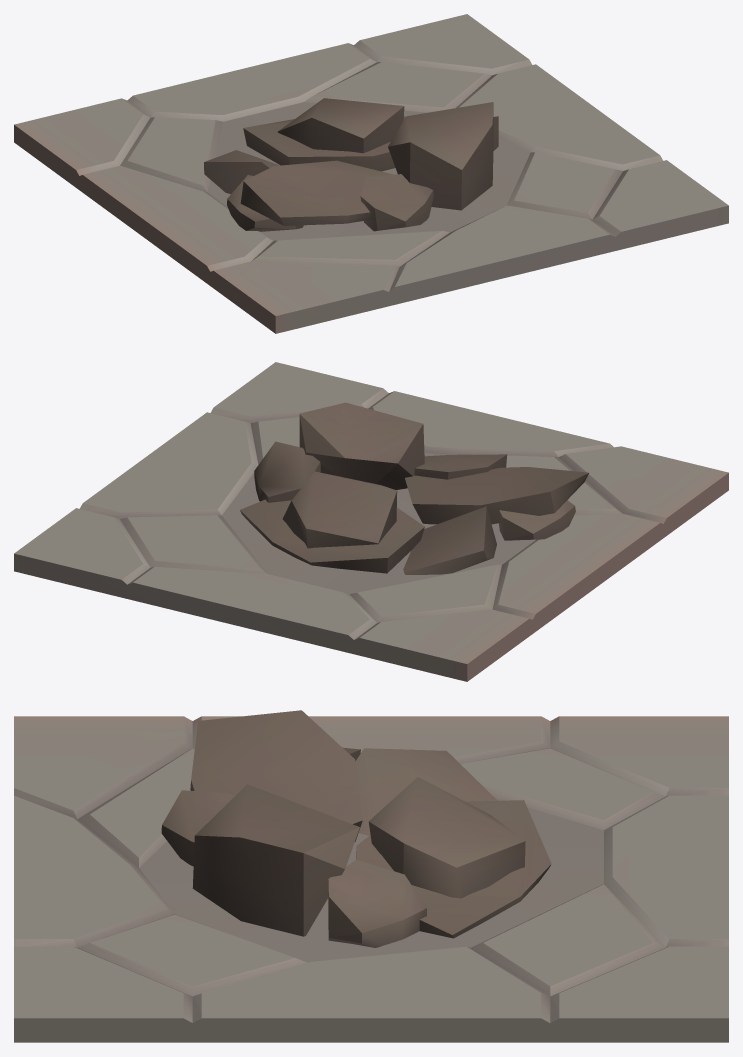
File: floor_tile_large_rocks.glb
3 renders of one model, top to bottom at view 1: azimuth 30°, elevation 25°; view 2: azimuth 150°, elevation 25°; view 3: azimuth 270°, elevation 25°, orthographic. The views are drawn at different scales.
Parts seen in each view (by area): view 1: floor_tile_large_rocks; view 2: floor_tile_large_rocks; view 3: floor_tile_large_rocks.
Boxes of the visible parts, left/top/right/bottom form: floor_tile_large_rocks: left=14, top=14, right=728, bottom=333; floor_tile_large_rocks: left=14, top=362, right=728, bottom=681; floor_tile_large_rocks: left=14, top=710, right=728, bottom=1042.
Size of the model in its own units: 4 by 0.6362 by 4.
1 material, 1 textured.
